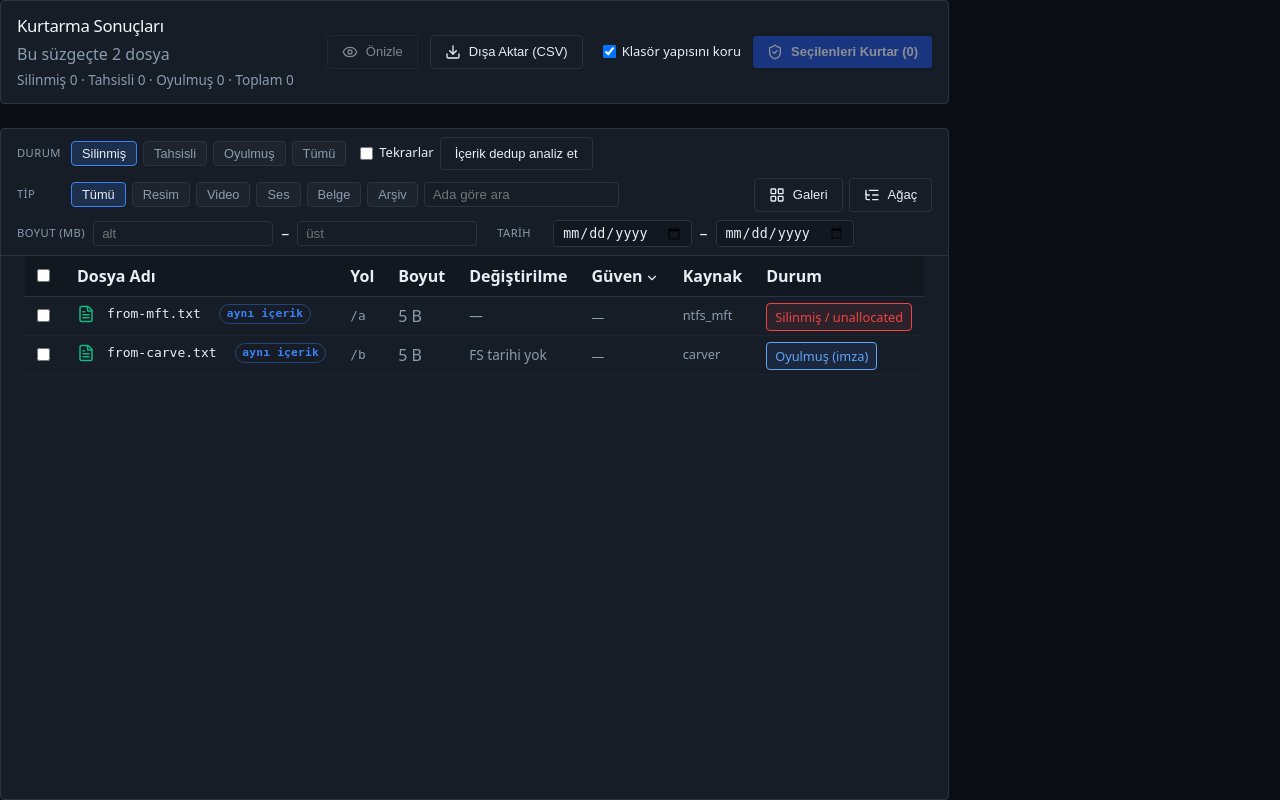
ResultsView content-hash analyze (FAZ 2.6) › hashes empty content then shows same-content badge without dropping rows
The width and height of the screenshot is (1280, 800).
Expected: the number of rows with test id "result-row" is 2, [25,296,924,335]; [25,335,924,374]
Click the button with test id "analyze-content-hash". click: (516, 153)
box: [440,137,593,170]
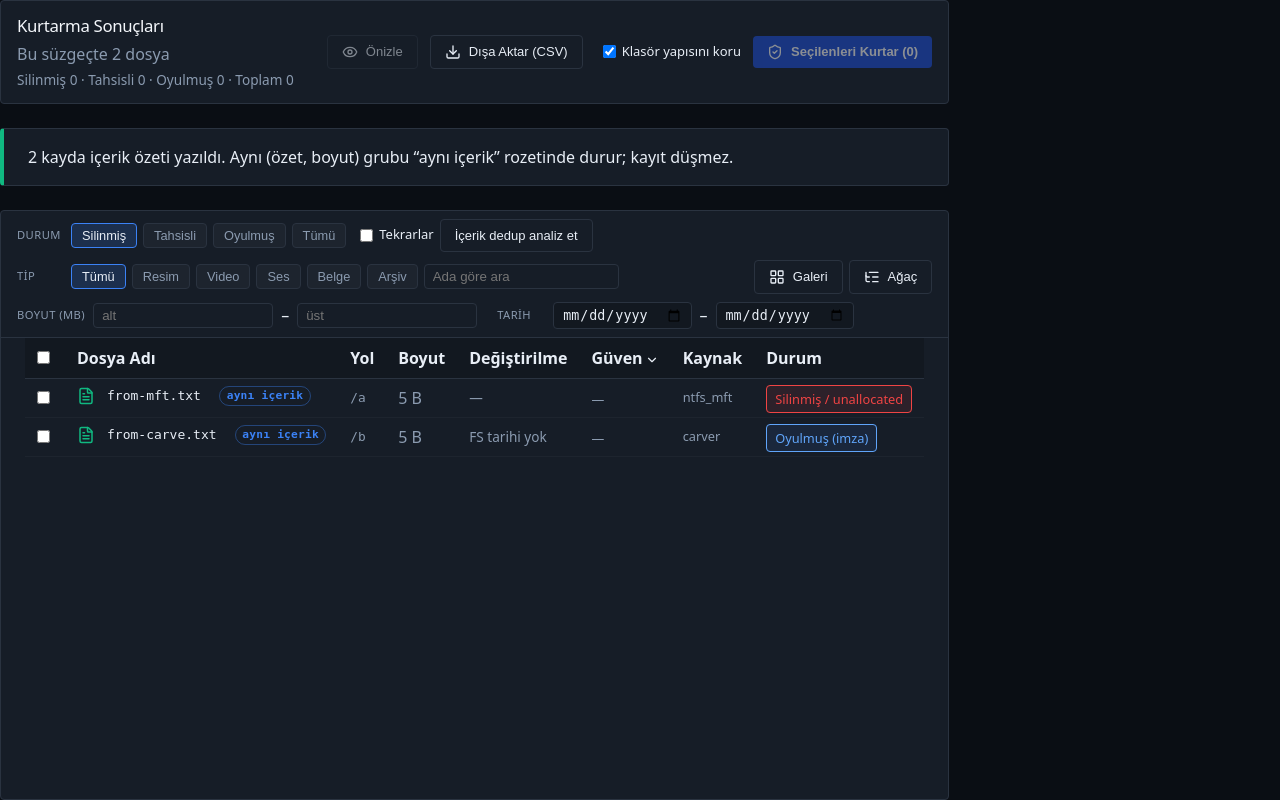
Expected: the number of rows with test id "result-row" is 2, [25,378,924,417]; [25,417,924,456]
Result: the message with test id "content-hash-report" shows "2" at [28,146,733,168]
